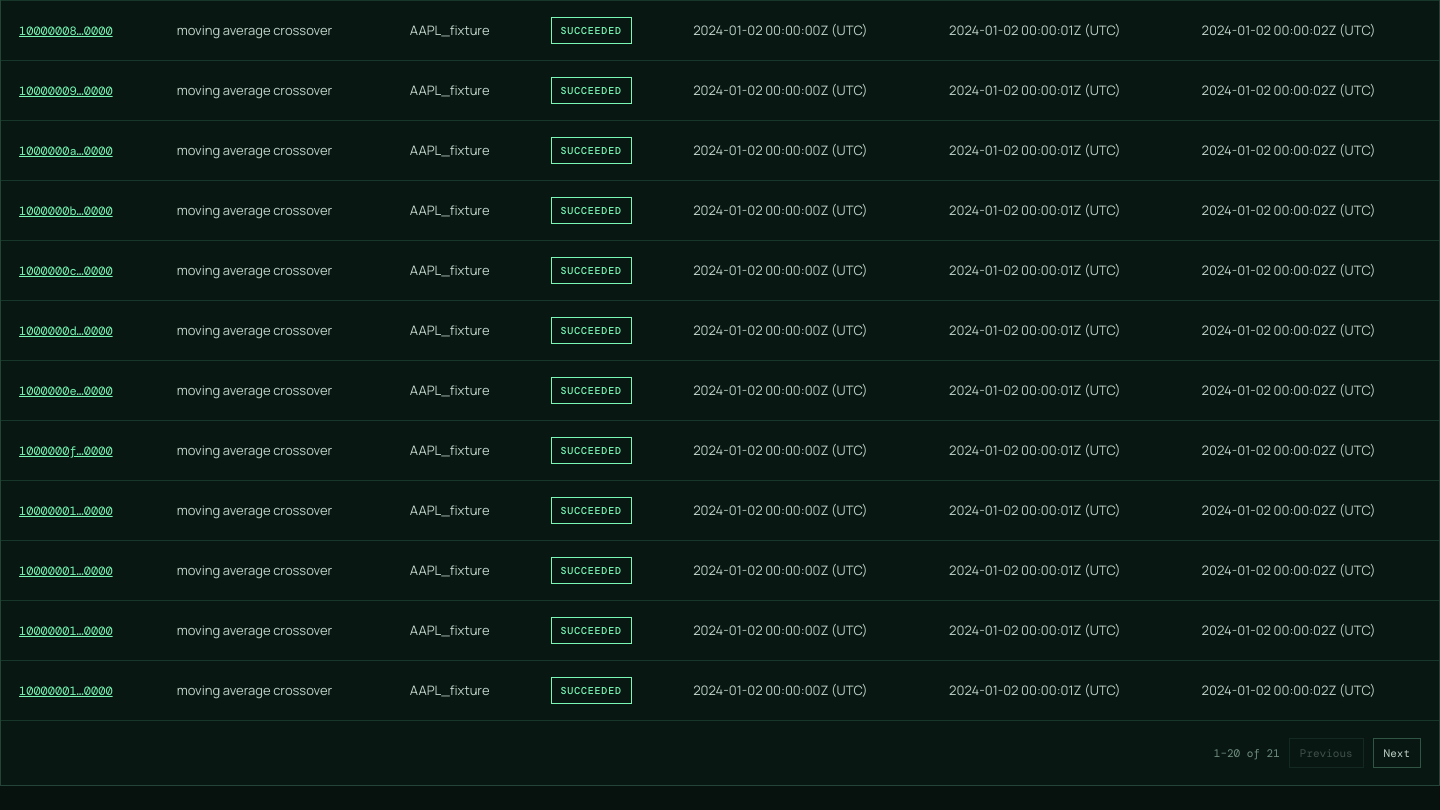
Test: backtest history › loads the limit-plus-one boundary without duplicate rows
(page scrolled)
Step 1. Click the button "Next" → click(1397, 753), box x1=1373 y1=738 x2=1421 y2=768
(page scrolled)
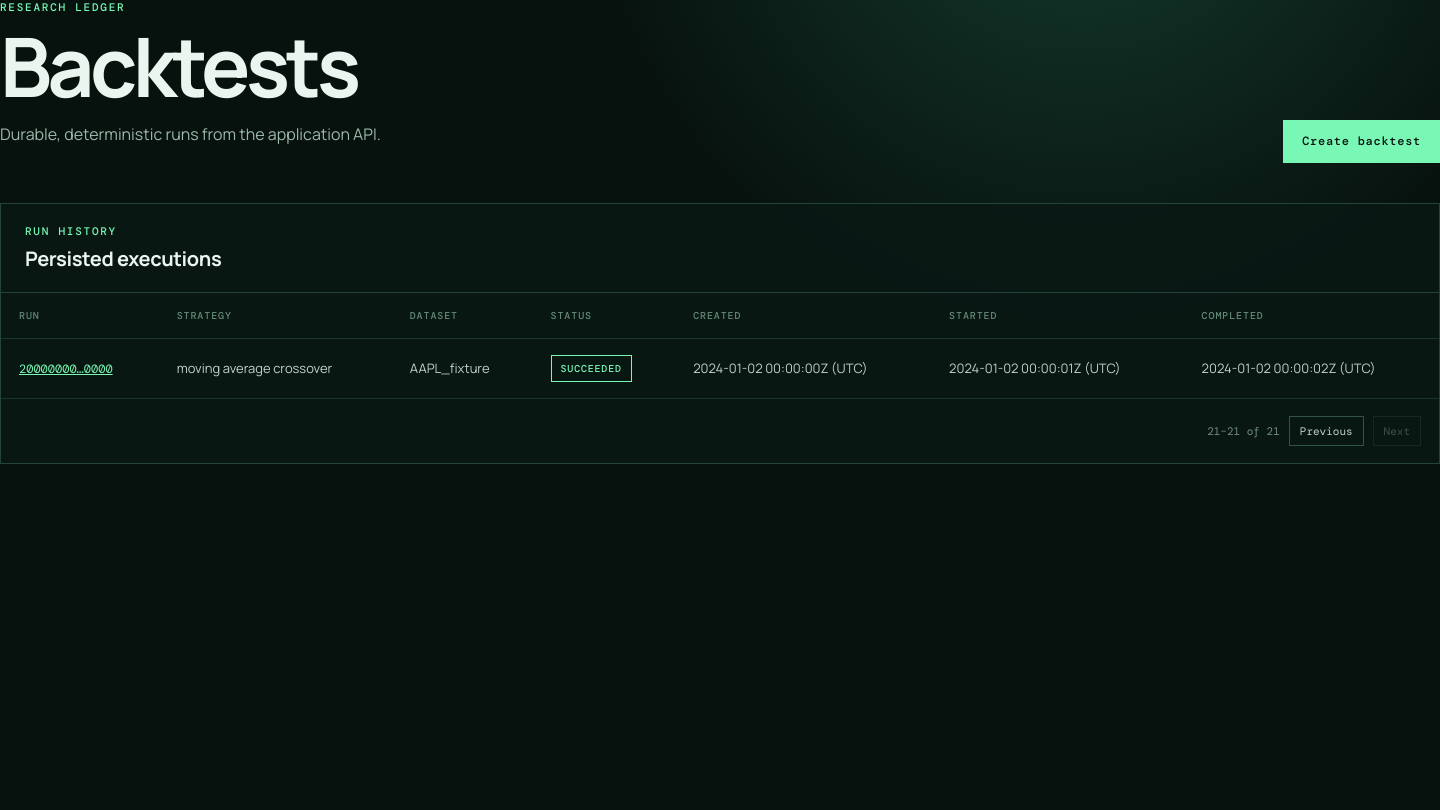
expect the link titled "20000000-0000-4000-8000-000000000000" is shown: met, box x1=19 y1=361 x2=113 y2=377
expect the number of rows is 2: met, box x1=1 y1=293 x2=1439 y2=338; x1=1 y1=338 x2=1439 y2=398
